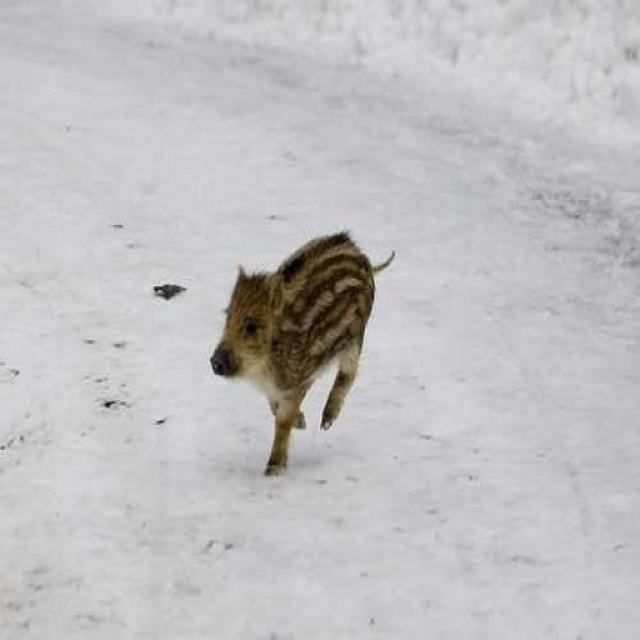pig: (186, 222, 432, 462)
